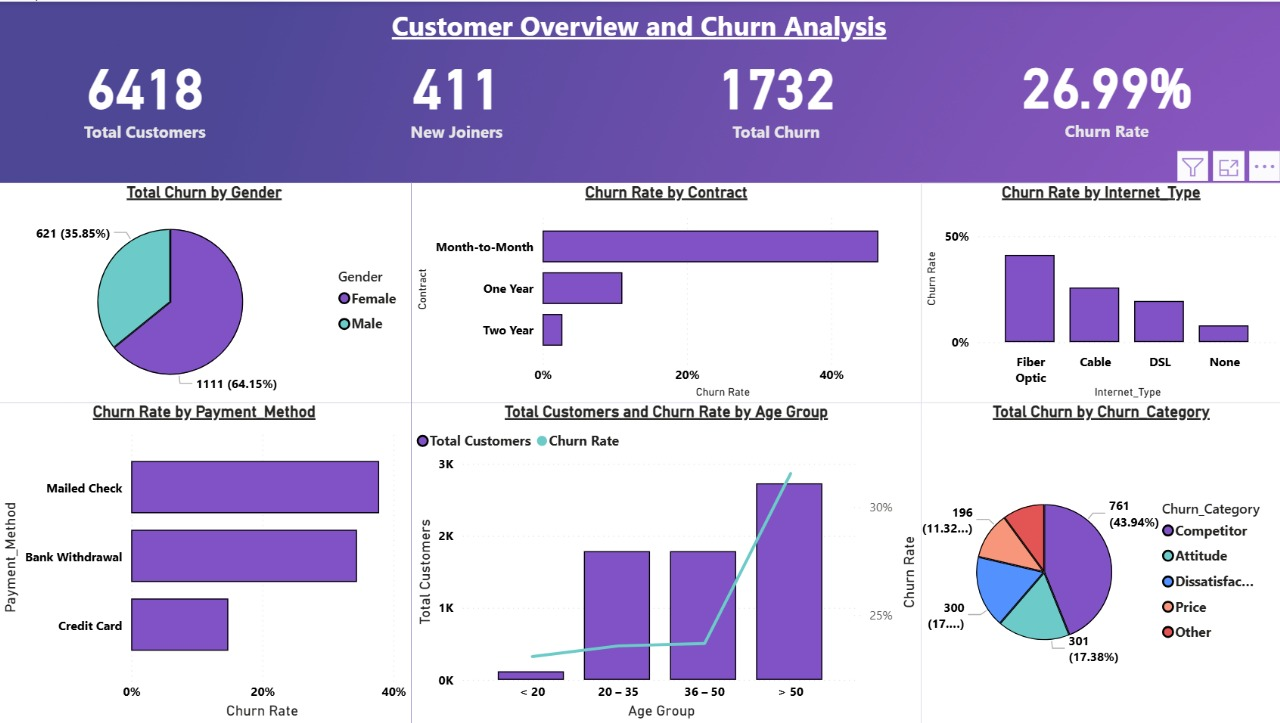

Layout of this report page (visuals, bound fields, positions):
{"tool":"powerbi","page":{"name":"Page 1","canvas":[1280,720],"ordinal":0},"visuals":[{"type":"card","fields":{"Values":["tbl_Measures.Total Customers"]},"box":[0,0,294.1,181.5],"z":0},{"type":"card","fields":{"Values":["tbl_Measures.New Joiners"]},"box":[294.1,0,327,181.5],"z":1000},{"type":"card","fields":{"Values":["tbl_Measures.Total Churn"]},"box":[621.1,0,309.8,181.5],"z":2000},{"type":"card","fields":{"Values":["tbl_Measures.Churn Rate"]},"box":[930.9,0,348.9,179.9],"z":3000},{"type":"pieChart","fields":{"Category":["prod_Churn.Gender"],"Y":["tbl_Measures.Total Churn"]},"box":[0,181.2,412.9,219],"z":4000},{"type":"lineStackedColumnComboChart","fields":{"Category":["mapping_AgeGrp.Age Group"],"Y":["tbl_Measures.Total Customers"],"Y2":["tbl_Measures.Churn Rate"]},"box":[412.9,400.2,508,320],"z":5000},{"type":"clusteredBarChart","fields":{"Category":["prod_Churn.Payment_Method"],"Y":["tbl_Measures.Churn Rate"]},"box":[0,400.2,412.9,320],"z":6000},{"type":"clusteredBarChart","fields":{"Category":["prod_Churn.Contract"],"Y":["tbl_Measures.Churn Rate"]},"box":[412.9,181.2,508,219],"z":7000},{"type":"pieChart","fields":{"Category":["prod_Churn.Churn_Category"],"Y":["tbl_Measures.Total Churn"]},"box":[920.9,400.2,359,320],"z":8000},{"type":"clusteredColumnChart","fields":{"Category":["prod_Churn.Internet_Type"],"Y":["tbl_Measures.Churn Rate"]},"box":[920.9,181.2,359,219],"z":9000},{"type":"textbox","box":[0,0,1279.8,81.4],"z":9001}]}

Visuals, with their boxes in screenshot pixels (x1, y1, x2, y2), scaled from the page's 1280x720 canvas onto the 1280x723 screenshot:
card - tbl_Measures.Total Customers: 0 0 294 182
card - tbl_Measures.New Joiners: 294 0 621 182
card - tbl_Measures.Total Churn: 621 0 931 182
card - tbl_Measures.Churn Rate: 931 0 1279 181
pieChart - prod_Churn.Gender x tbl_Measures.Total Churn: 0 182 413 402
lineStackedColumnComboChart - mapping_AgeGrp.Age Group x tbl_Measures.Total Customers: 413 402 921 722
clusteredBarChart - prod_Churn.Payment_Method x tbl_Measures.Churn Rate: 0 402 413 722
clusteredBarChart - prod_Churn.Contract x tbl_Measures.Churn Rate: 413 182 921 402
pieChart - prod_Churn.Churn_Category x tbl_Measures.Total Churn: 921 402 1279 722
clusteredColumnChart - prod_Churn.Internet_Type x tbl_Measures.Churn Rate: 921 182 1279 402
textbox: 0 0 1279 82
